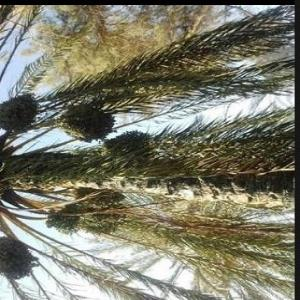palm tree: (0, 3, 296, 300)
